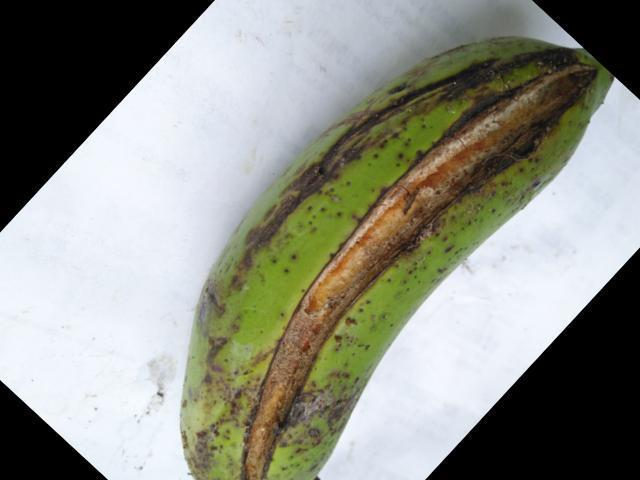rotten: (214, 64, 612, 479)
